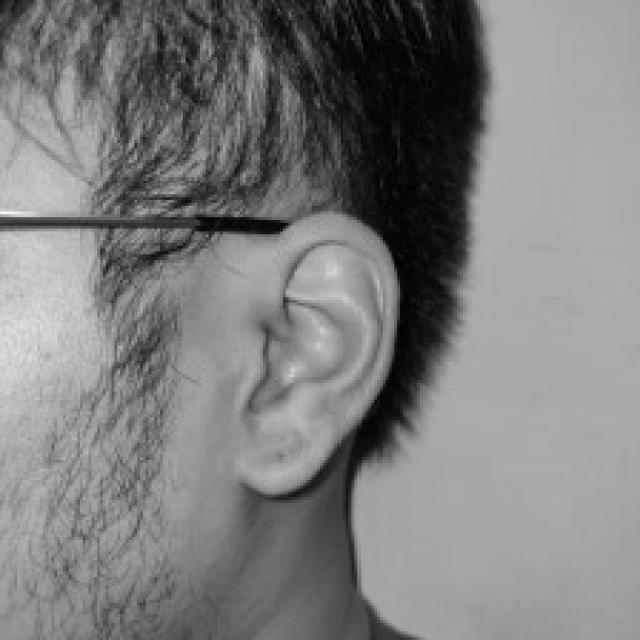ear: (240, 211, 397, 491)
